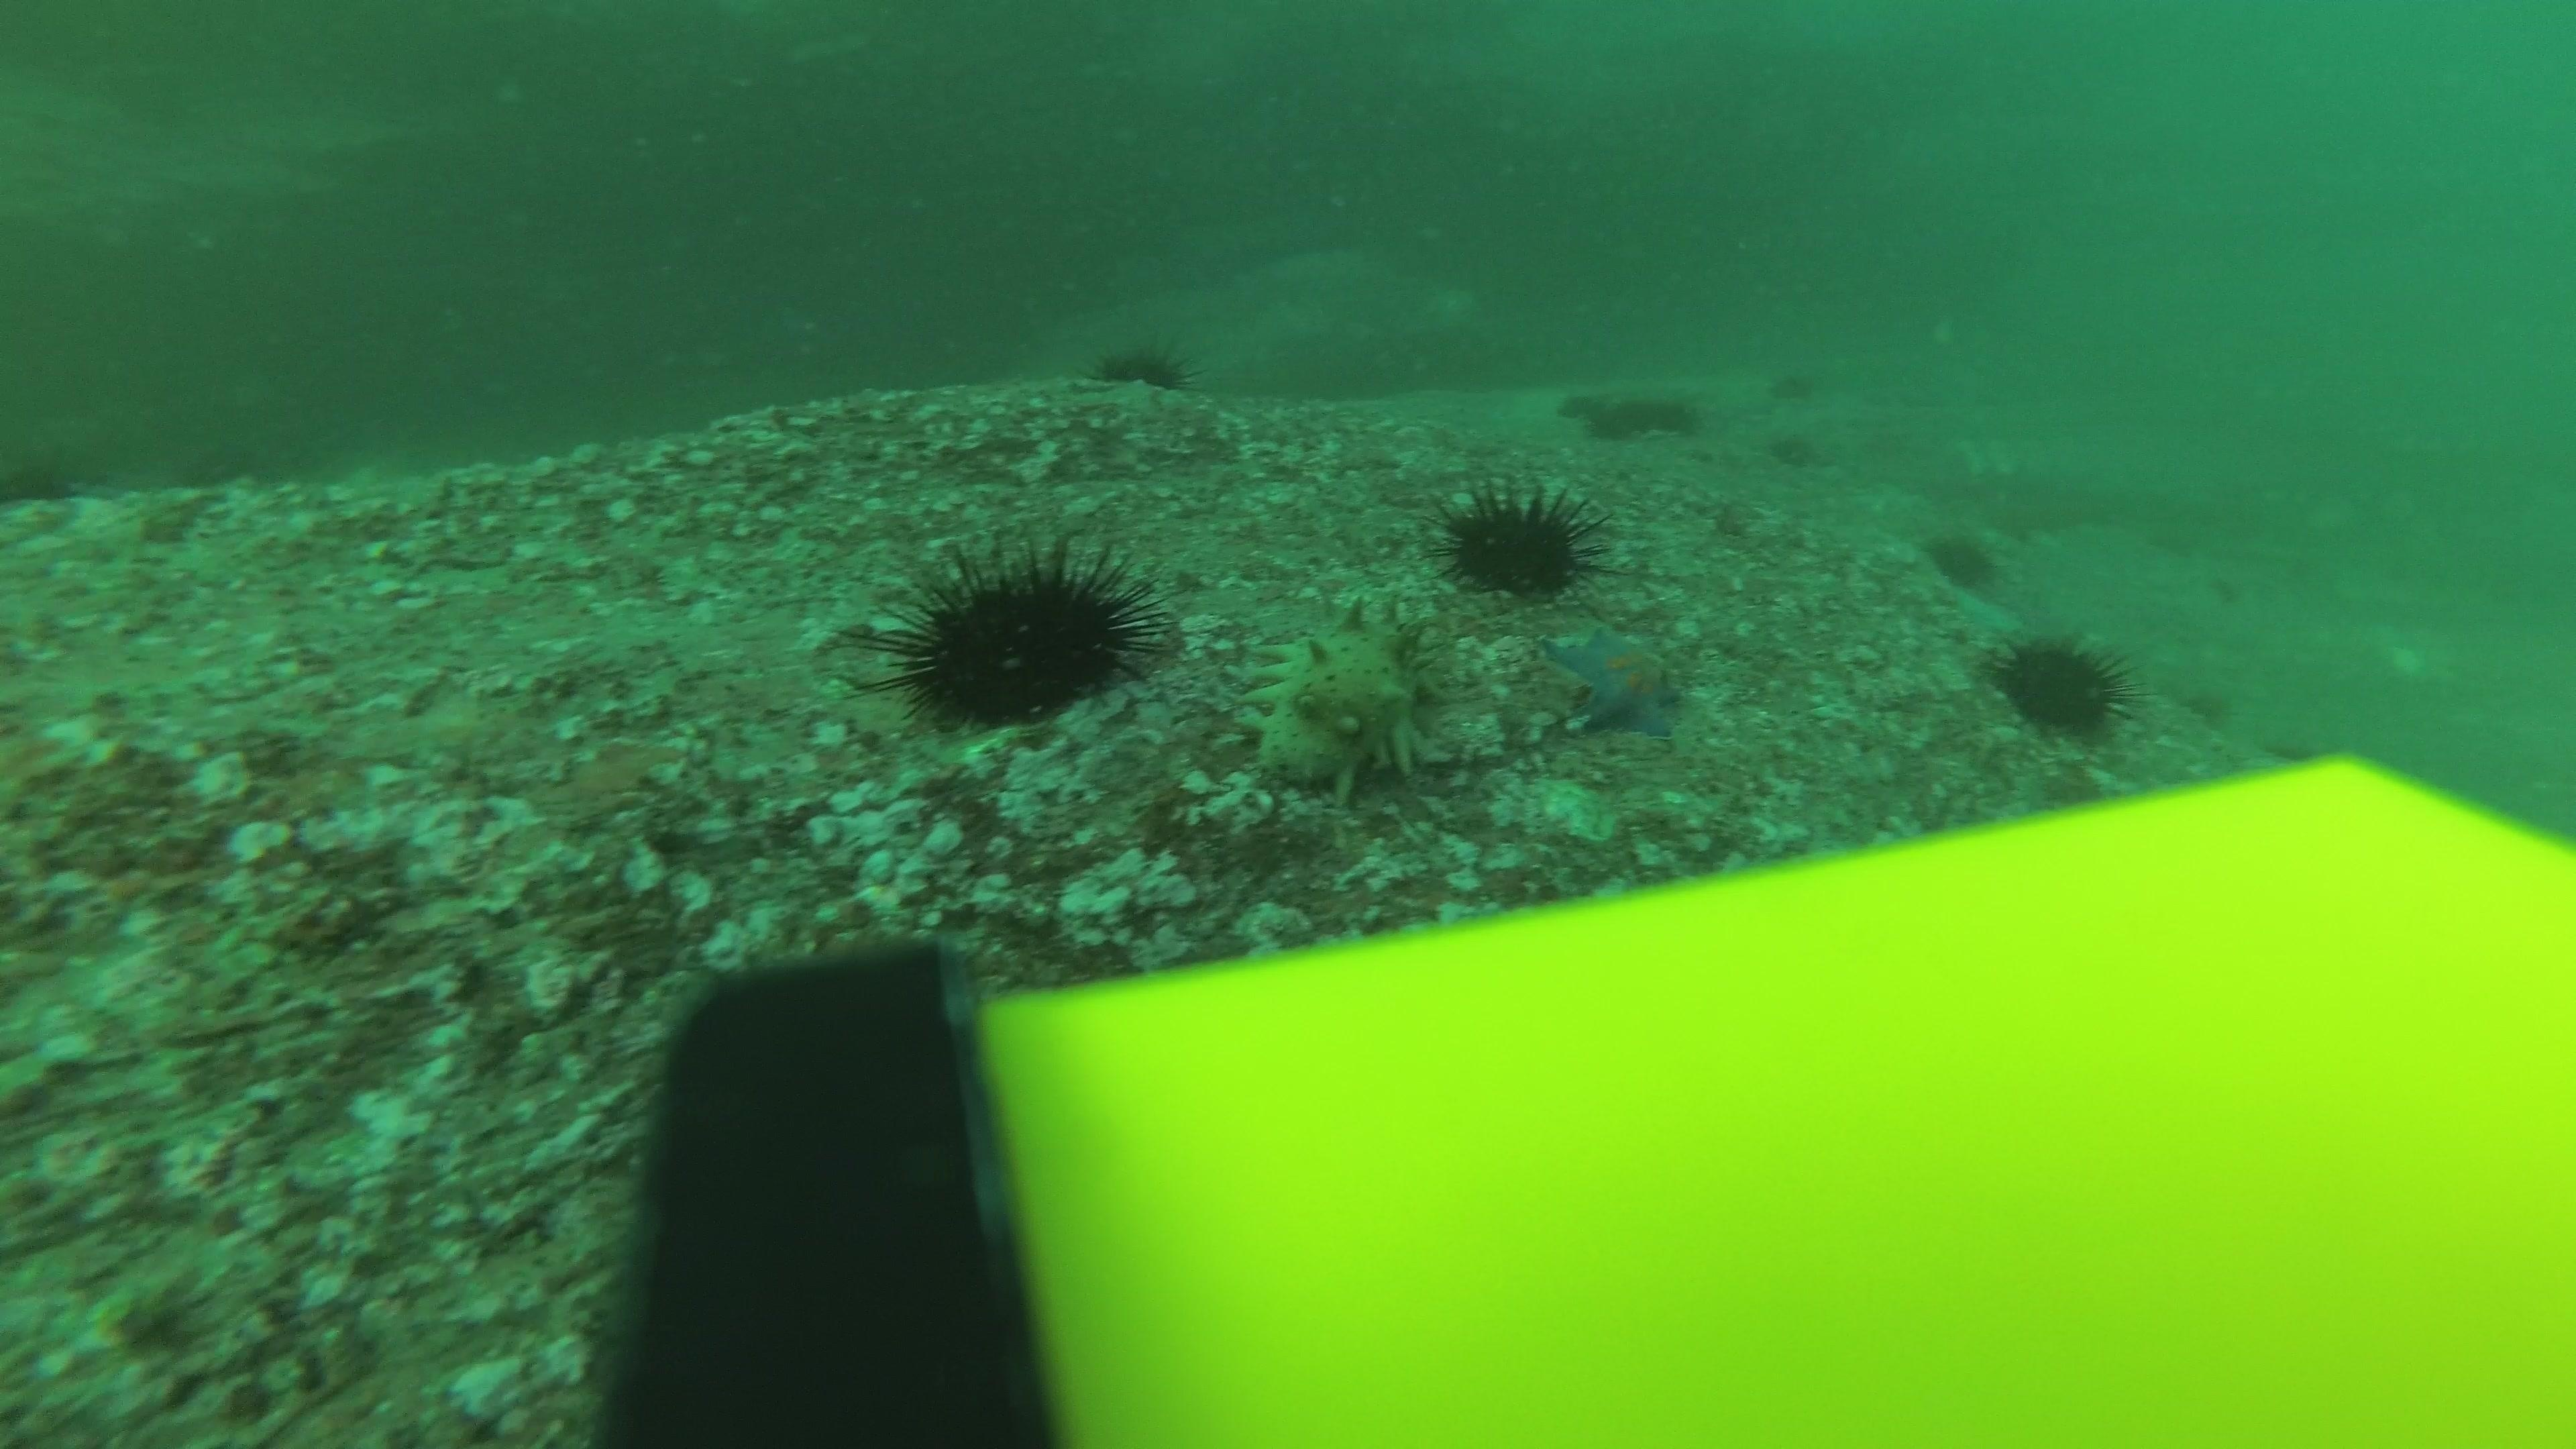echinus: (876, 534, 1164, 732), (1437, 479, 1601, 600), (1994, 628, 2132, 740), (1097, 334, 1189, 391), (1923, 524, 1999, 587), (1746, 419, 1819, 474), (1760, 361, 1833, 416)
holothurian: (1240, 594, 1449, 801)
starfish: (1541, 616, 1693, 743), (1937, 587, 2024, 644)
